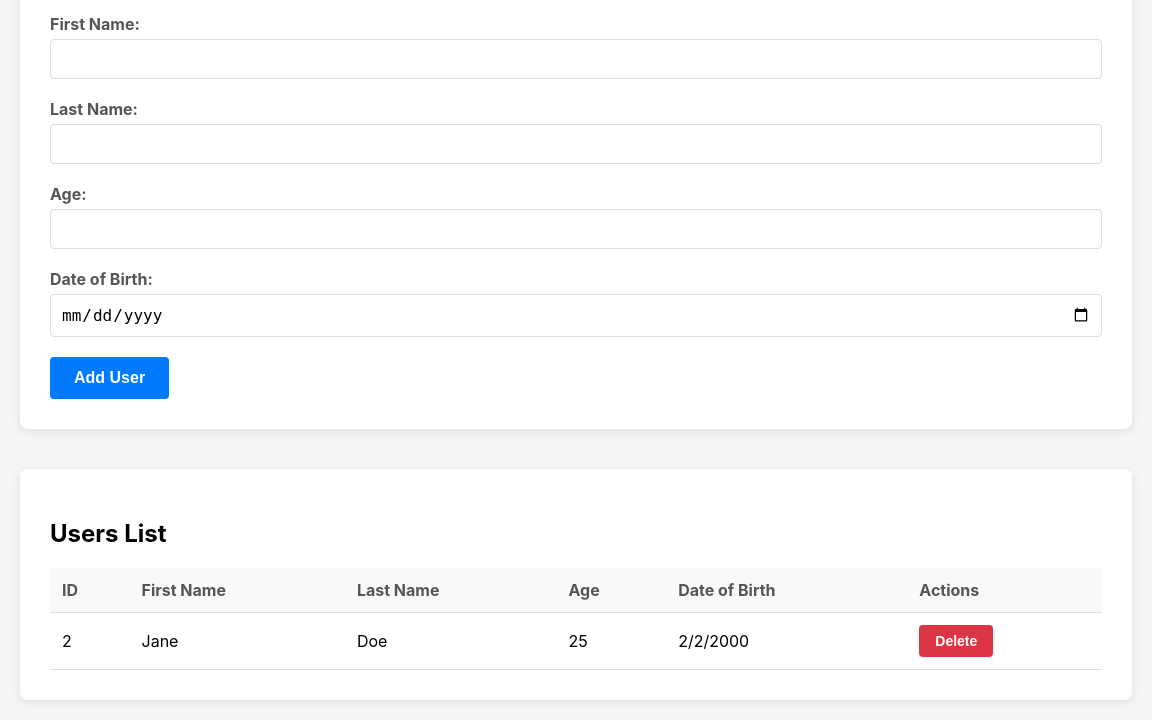
App delete flow with confirm modal › closes modal on cancel without deleting
(page scrolled)
expect the heading "Users List" is shown: met, box [50, 519, 166, 548]
Click the button "Delete": (956, 641) [919, 625, 993, 657]
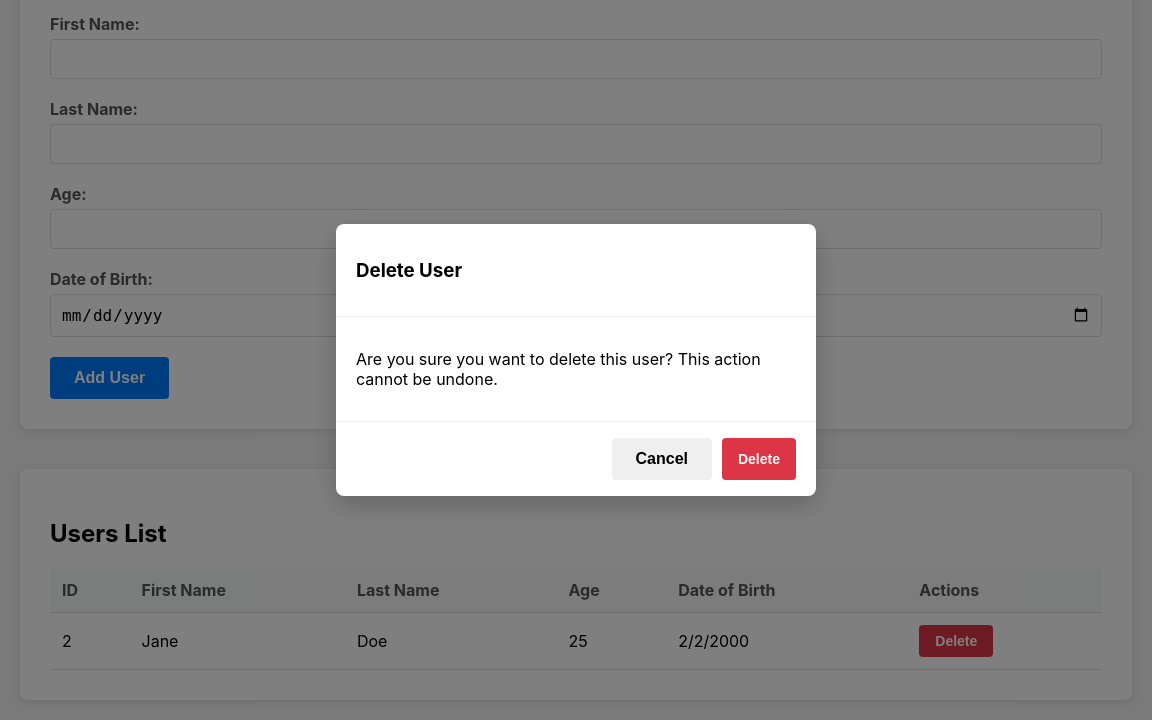
expect the dialog is shown: met
Click the button "Cancel": (662, 459) [612, 438, 712, 480]
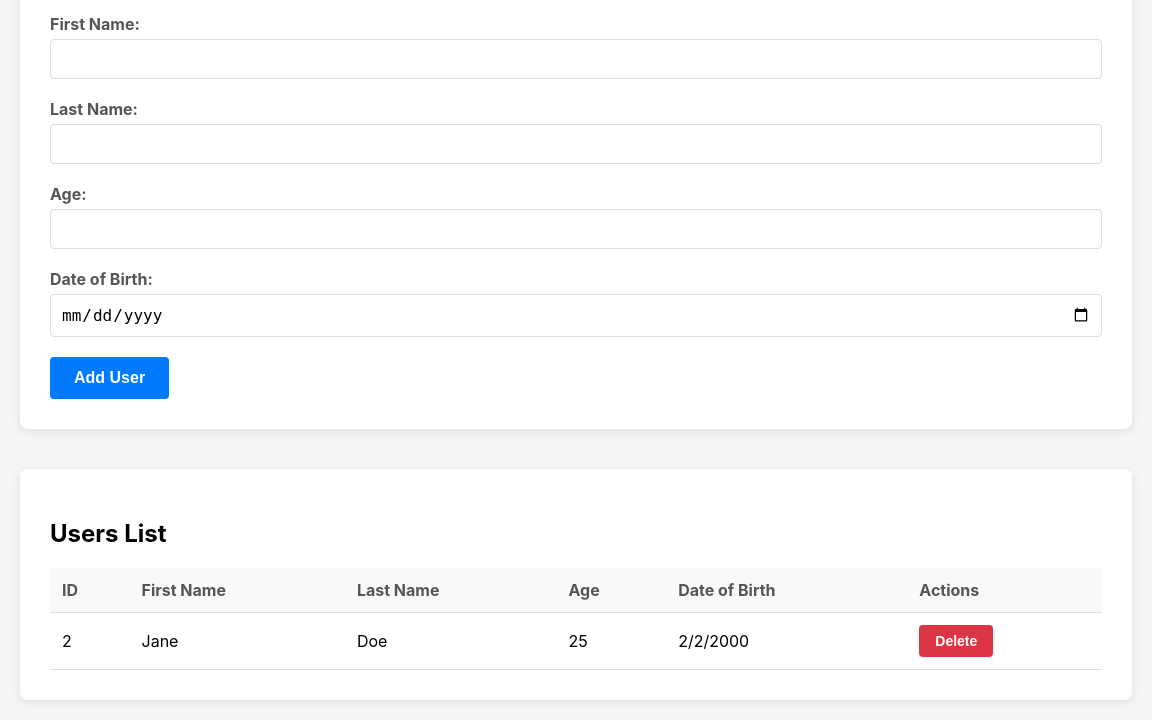
expect the dialog is gone: met
